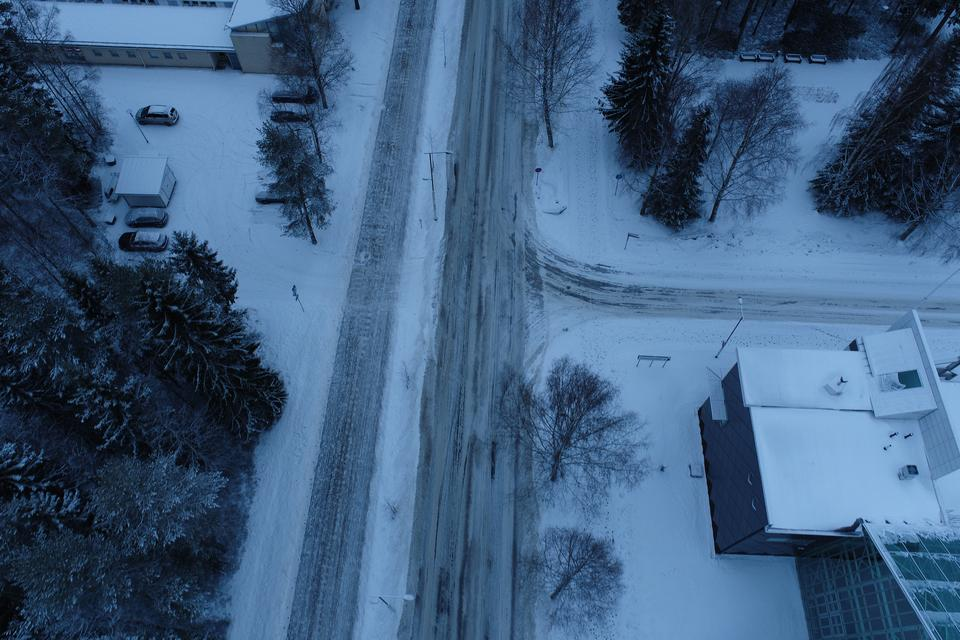intersection: (304, 220, 629, 383)
